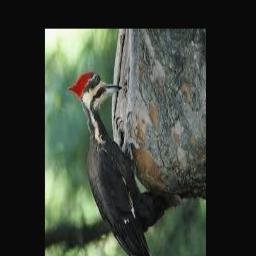Woodpecker: (68, 72, 165, 256)
